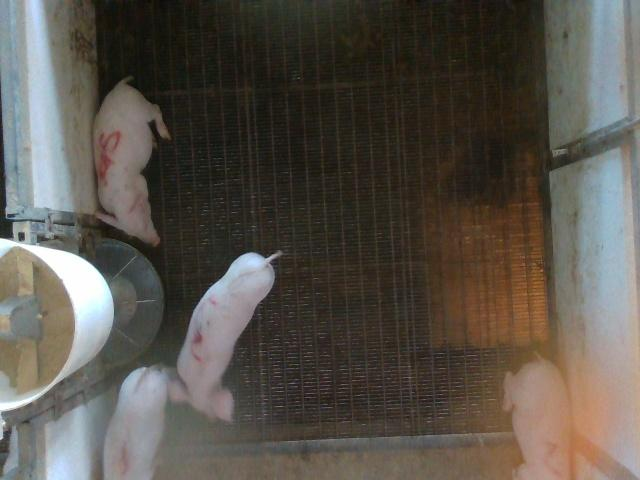pig-1: (104, 365, 168, 479)
pig-2: (504, 356, 570, 478)
pig-3: (169, 251, 282, 421)
pig-5: (94, 76, 171, 246)
